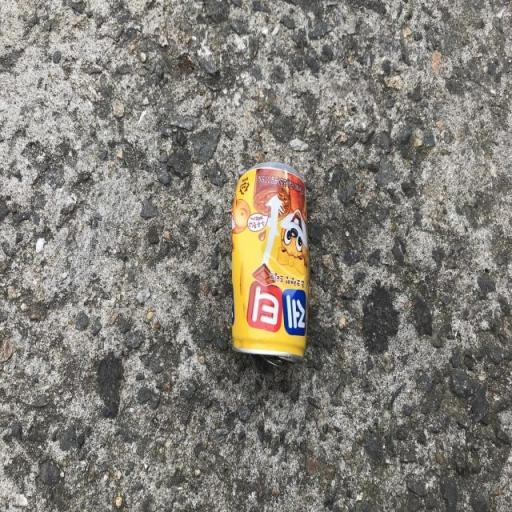metal: (179, 136, 350, 448)
